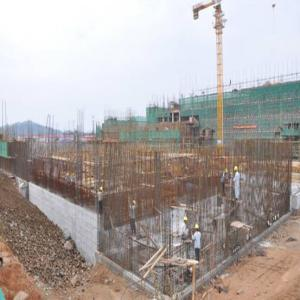yellow: (234, 166, 239, 174), (195, 225, 200, 232), (224, 169, 229, 176), (185, 217, 189, 225), (132, 201, 137, 207), (100, 187, 104, 194)
